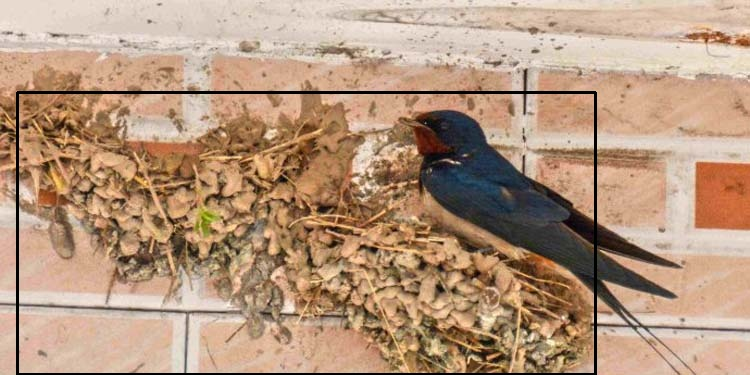bird-nest: (3, 70, 358, 263), (358, 222, 587, 375)
